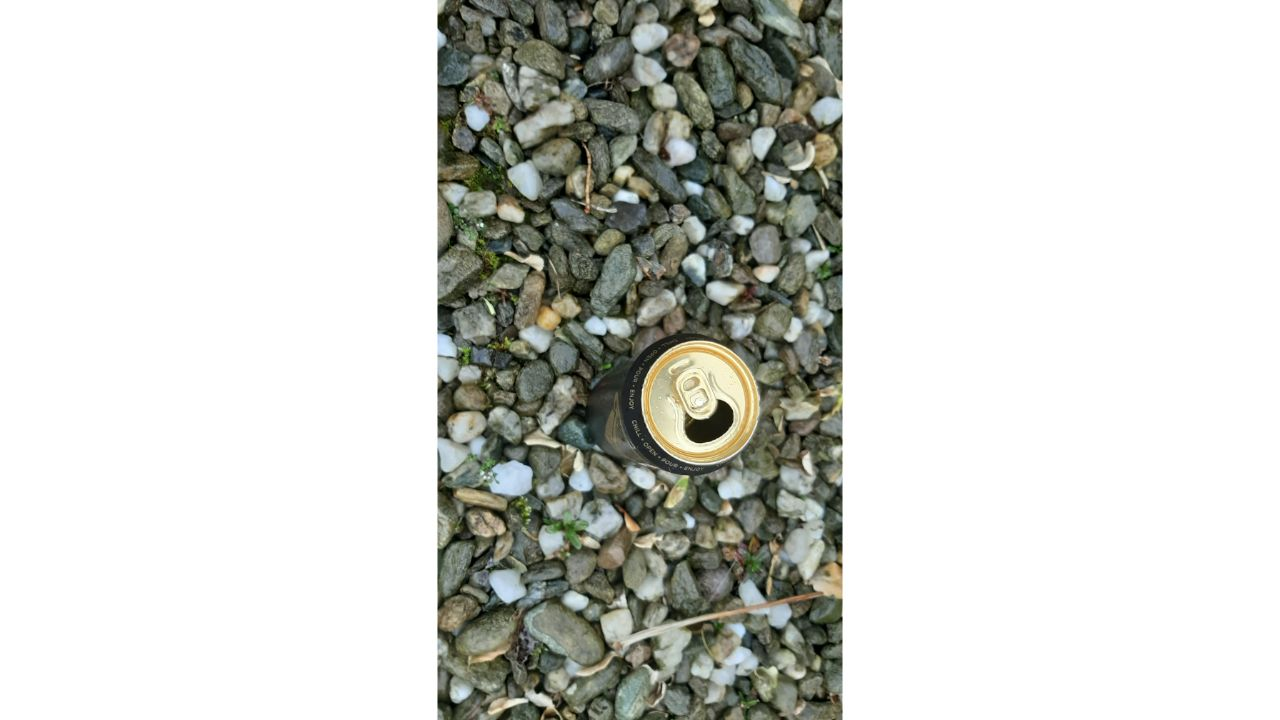Can: (560, 315, 778, 493)
